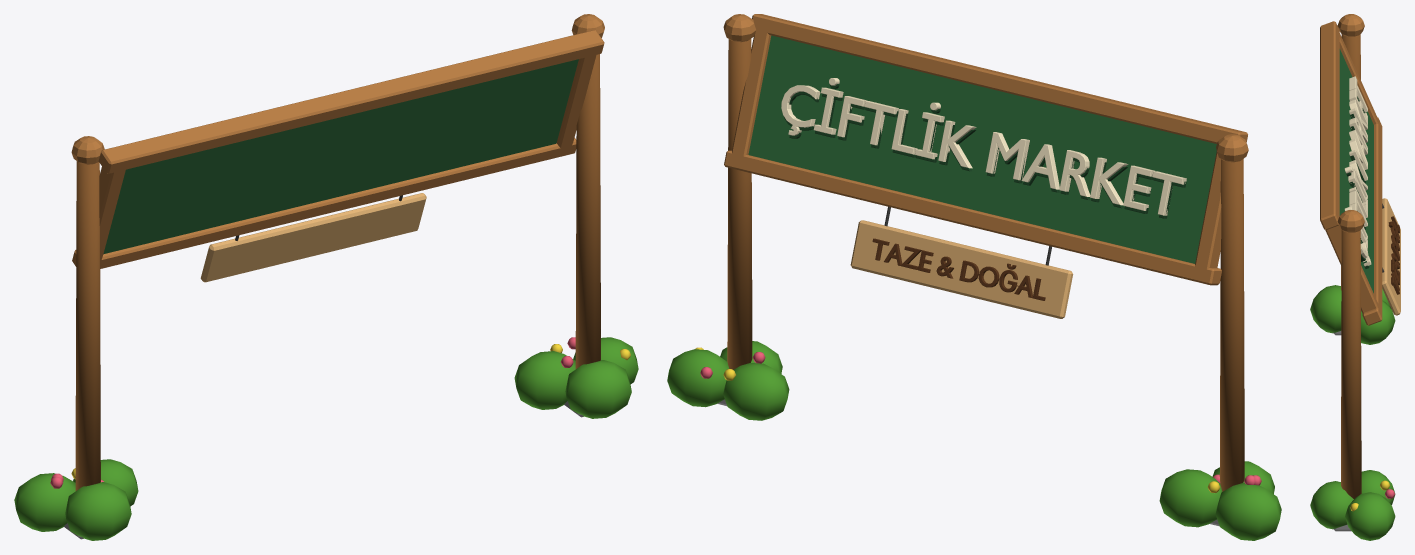
The model's file is Market_Tabela_v2.fbx.
The picture shows the model from 3 angles, left to right: view 1: azimuth 30°, elevation 25°; view 2: azimuth 150°, elevation 25°; view 3: azimuth 270°, elevation 25°; orthographic projection. The views are drawn at different scales.
Visible parts, largest first — view 1: Market_Tabela_v2; view 2: Market_Tabela_v2; view 3: Market_Tabela_v2.
Boxes of the visible parts, <box> form: Market_Tabela_v2: <box>14,14,638,540</box>; Market_Tabela_v2: <box>667,14,1281,540</box>; Market_Tabela_v2: <box>1310,14,1400,540</box>.
Size of the model in its own units: 5.46 by 3.3 by 0.8606.
